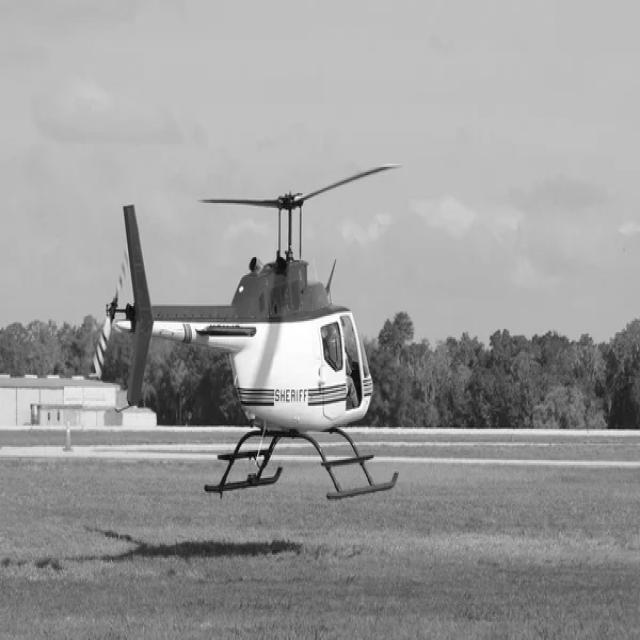Helicopter: (117, 192, 399, 498)
